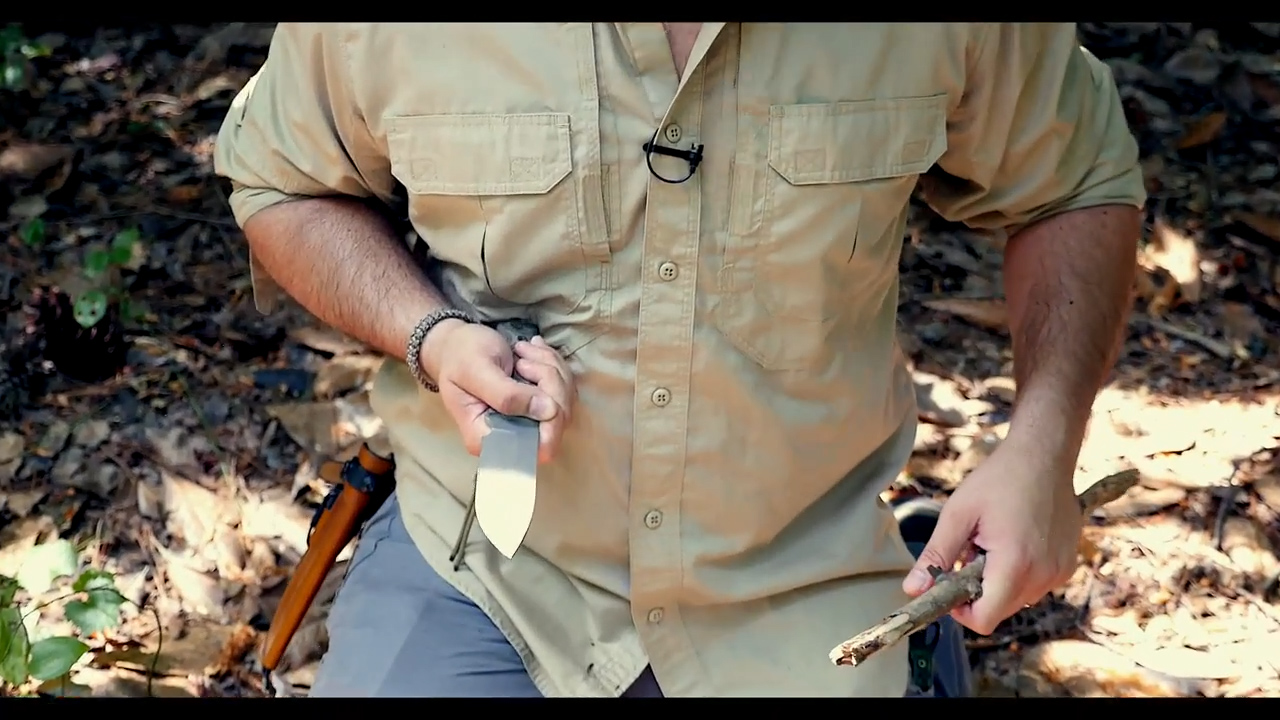knife: (443, 330, 587, 573)
